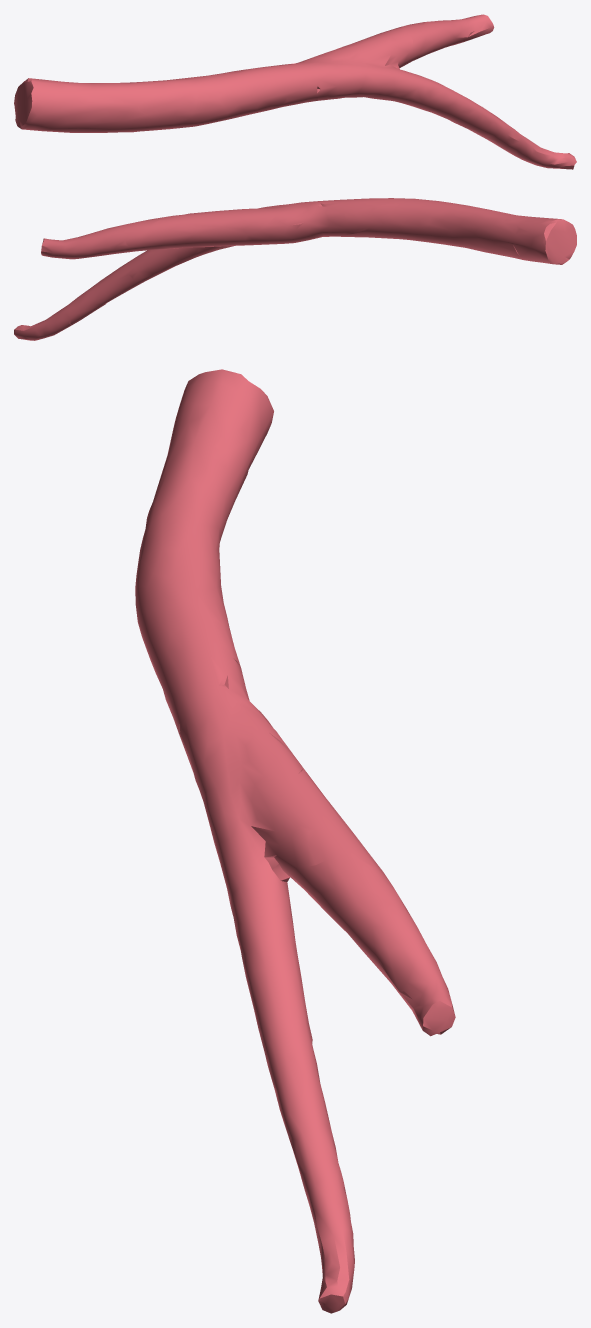
Rendered from fma3890_mm432.glb.
3 views of the same model, one above another, from view 1: azimuth 30°, elevation 25°; view 2: azimuth 150°, elevation 25°; view 3: azimuth 270°, elevation 25° (orthographic). The views are drawn at different scales.
Parts seen in each view (by area): view 1: FMA3890_MM432; view 2: FMA3890_MM432; view 3: FMA3890_MM432.
Part boxes in pixels (x1,y1,x2,y2): FMA3890_MM432: (14,14,576,169); FMA3890_MM432: (14,198,576,340); FMA3890_MM432: (135,369,455,1313).
Size of the model in its own units: 0.0283 by 0.0115 by 0.00747.
